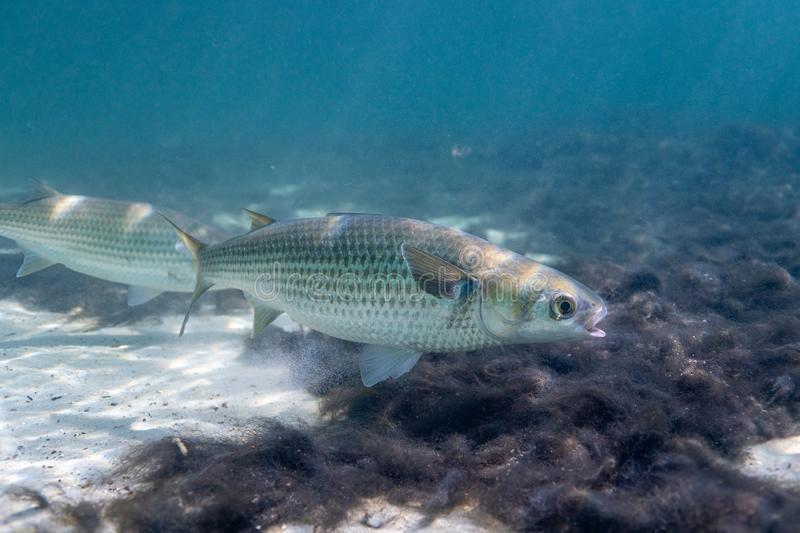Mullet: (166, 201, 610, 393)
